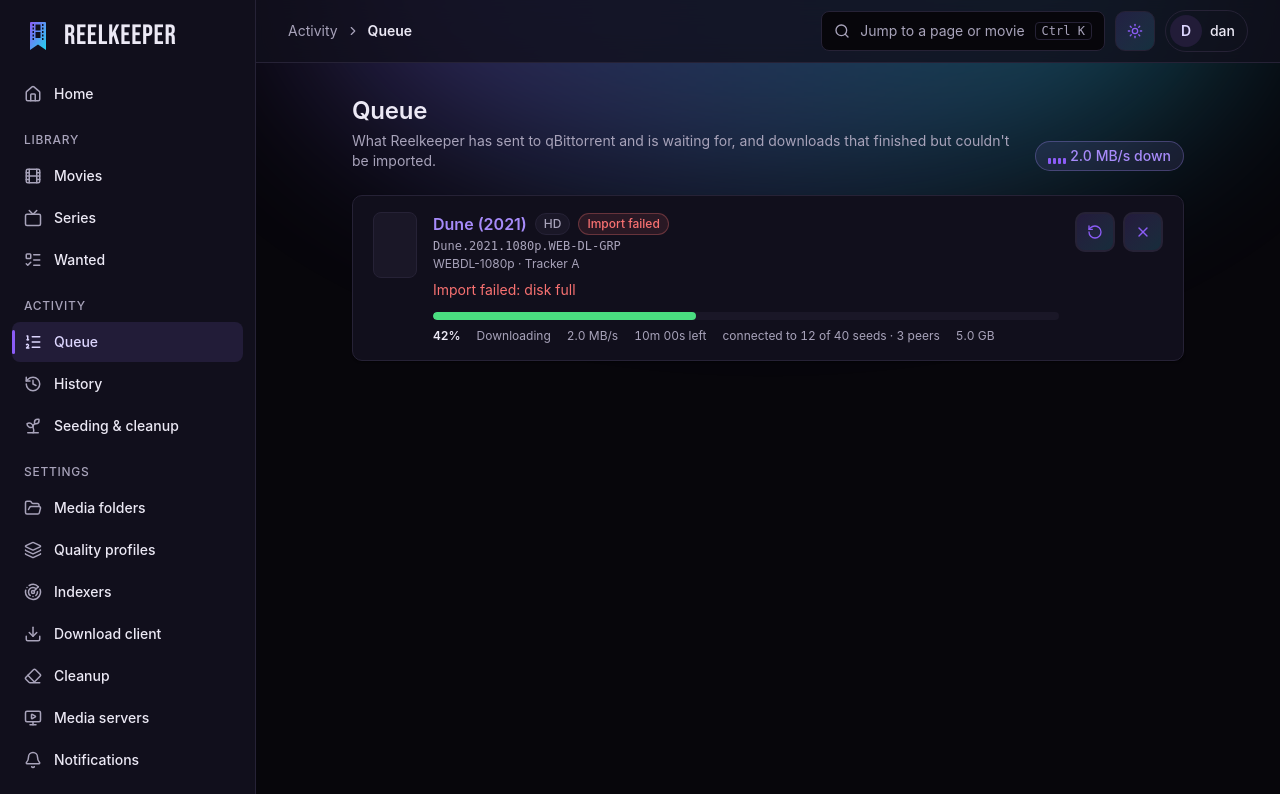
Test: queue page › shows why a retry failed
Click the button named "Retry import" at (1095, 232), box x1=1075 y1=212 x2=1115 y2=252
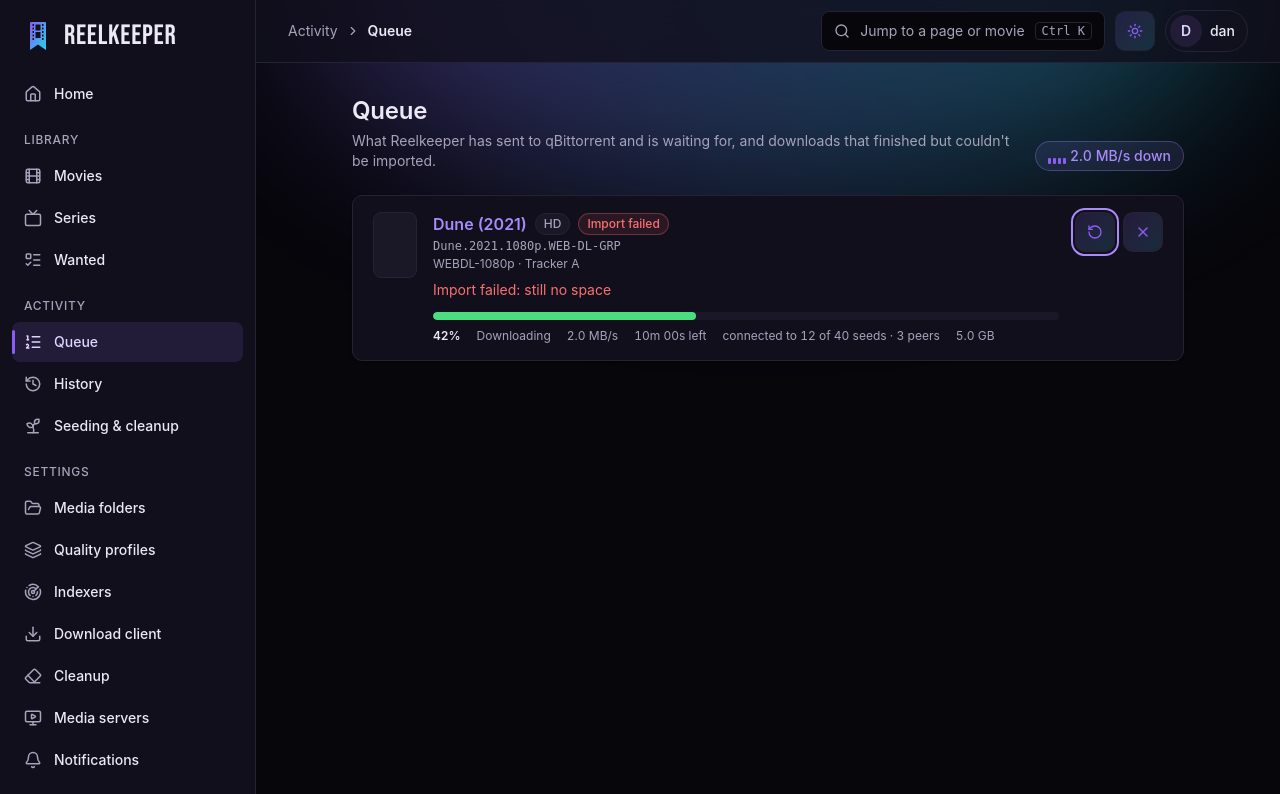
Now the text "Import failed: still no space" is shown, box x1=433 y1=281 x2=611 y2=298
